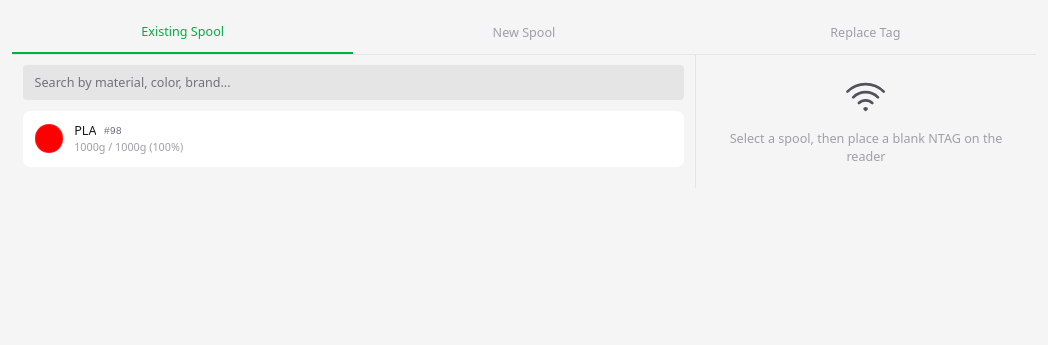
SpoolBuddyWriteTagPage › says why a write for a spool linked to its AMS RFID tag is refused (SM-C5)
Click the text "PLA": (85, 131) x1=74 y1=122 x2=96 y2=140
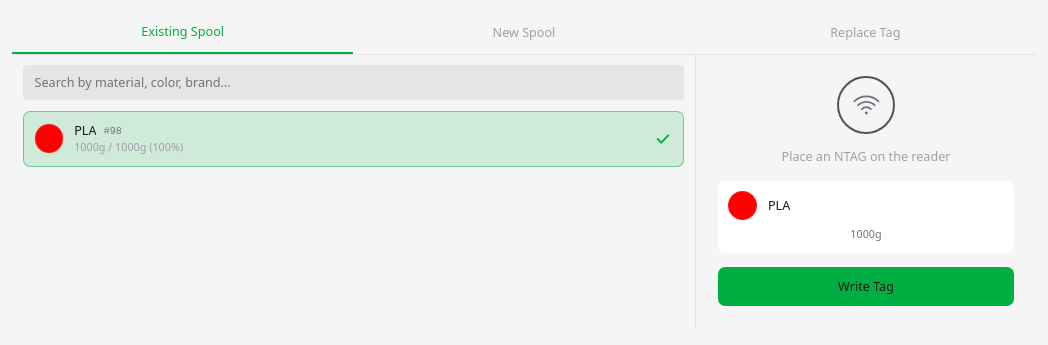
Now the button "Write Tag" is enabled
Click the button "Write Tag": (866, 287) x1=718 y1=267 x2=1014 y2=306
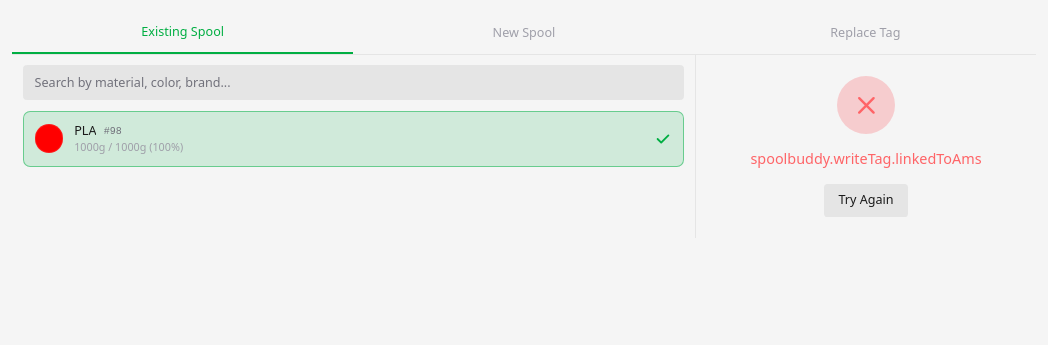
Now the text "spoolbuddy.writeTag.linkedToAms" is shown, box x1=750 y1=148 x2=982 y2=170
